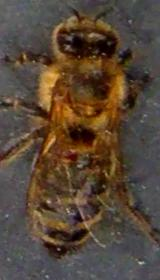varroa_mite: (49, 144, 76, 168)
